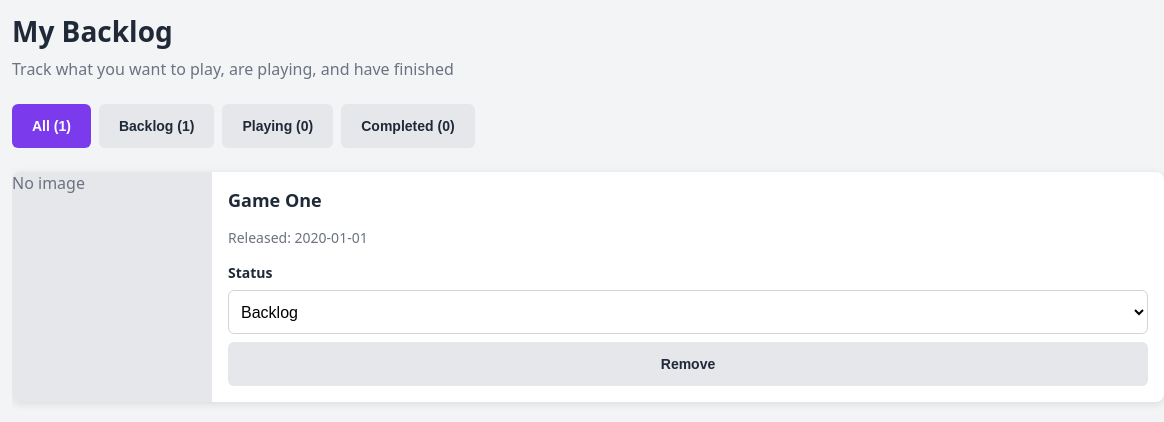
BacklogPage › changes a game status
This screenshot has width=1164, height=422.
Select "Completed" in the dropdown labelled "Status": point(688, 312) x1=228 y1=290 x2=1148 y2=334
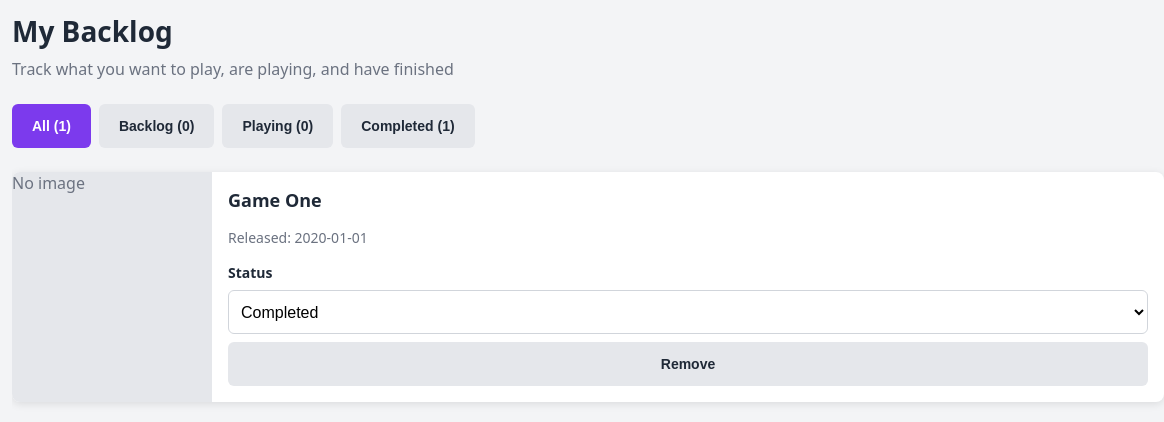
Expected: the button "Completed (1)" is shown, x1=341 y1=104 x2=475 y2=148
